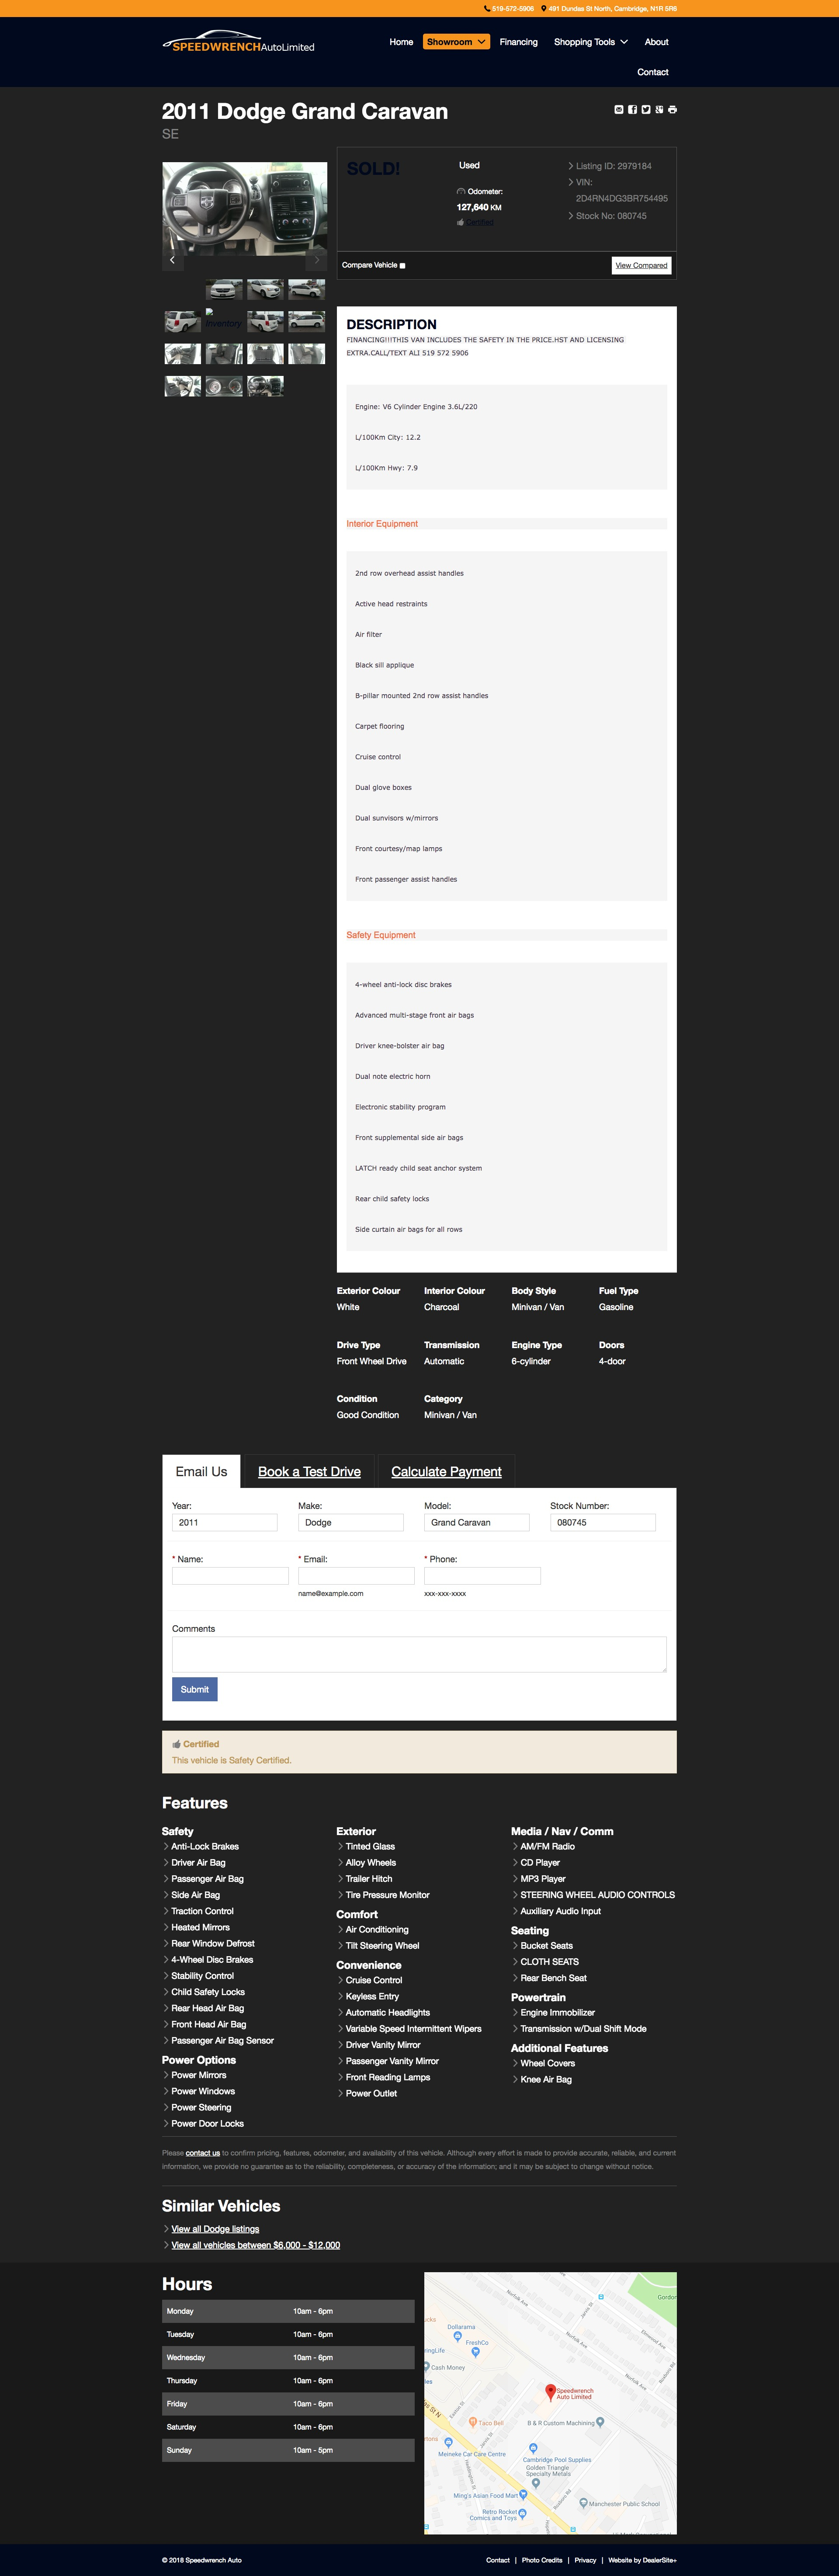car: (305, 250, 328, 273)
